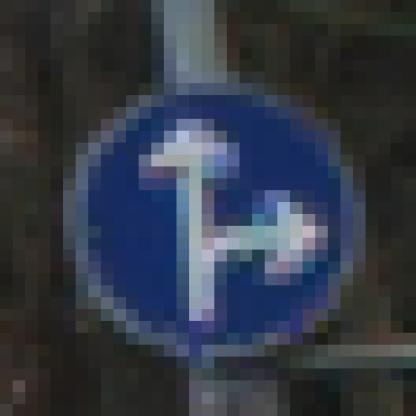Straight or Right: (64, 72, 354, 358)
